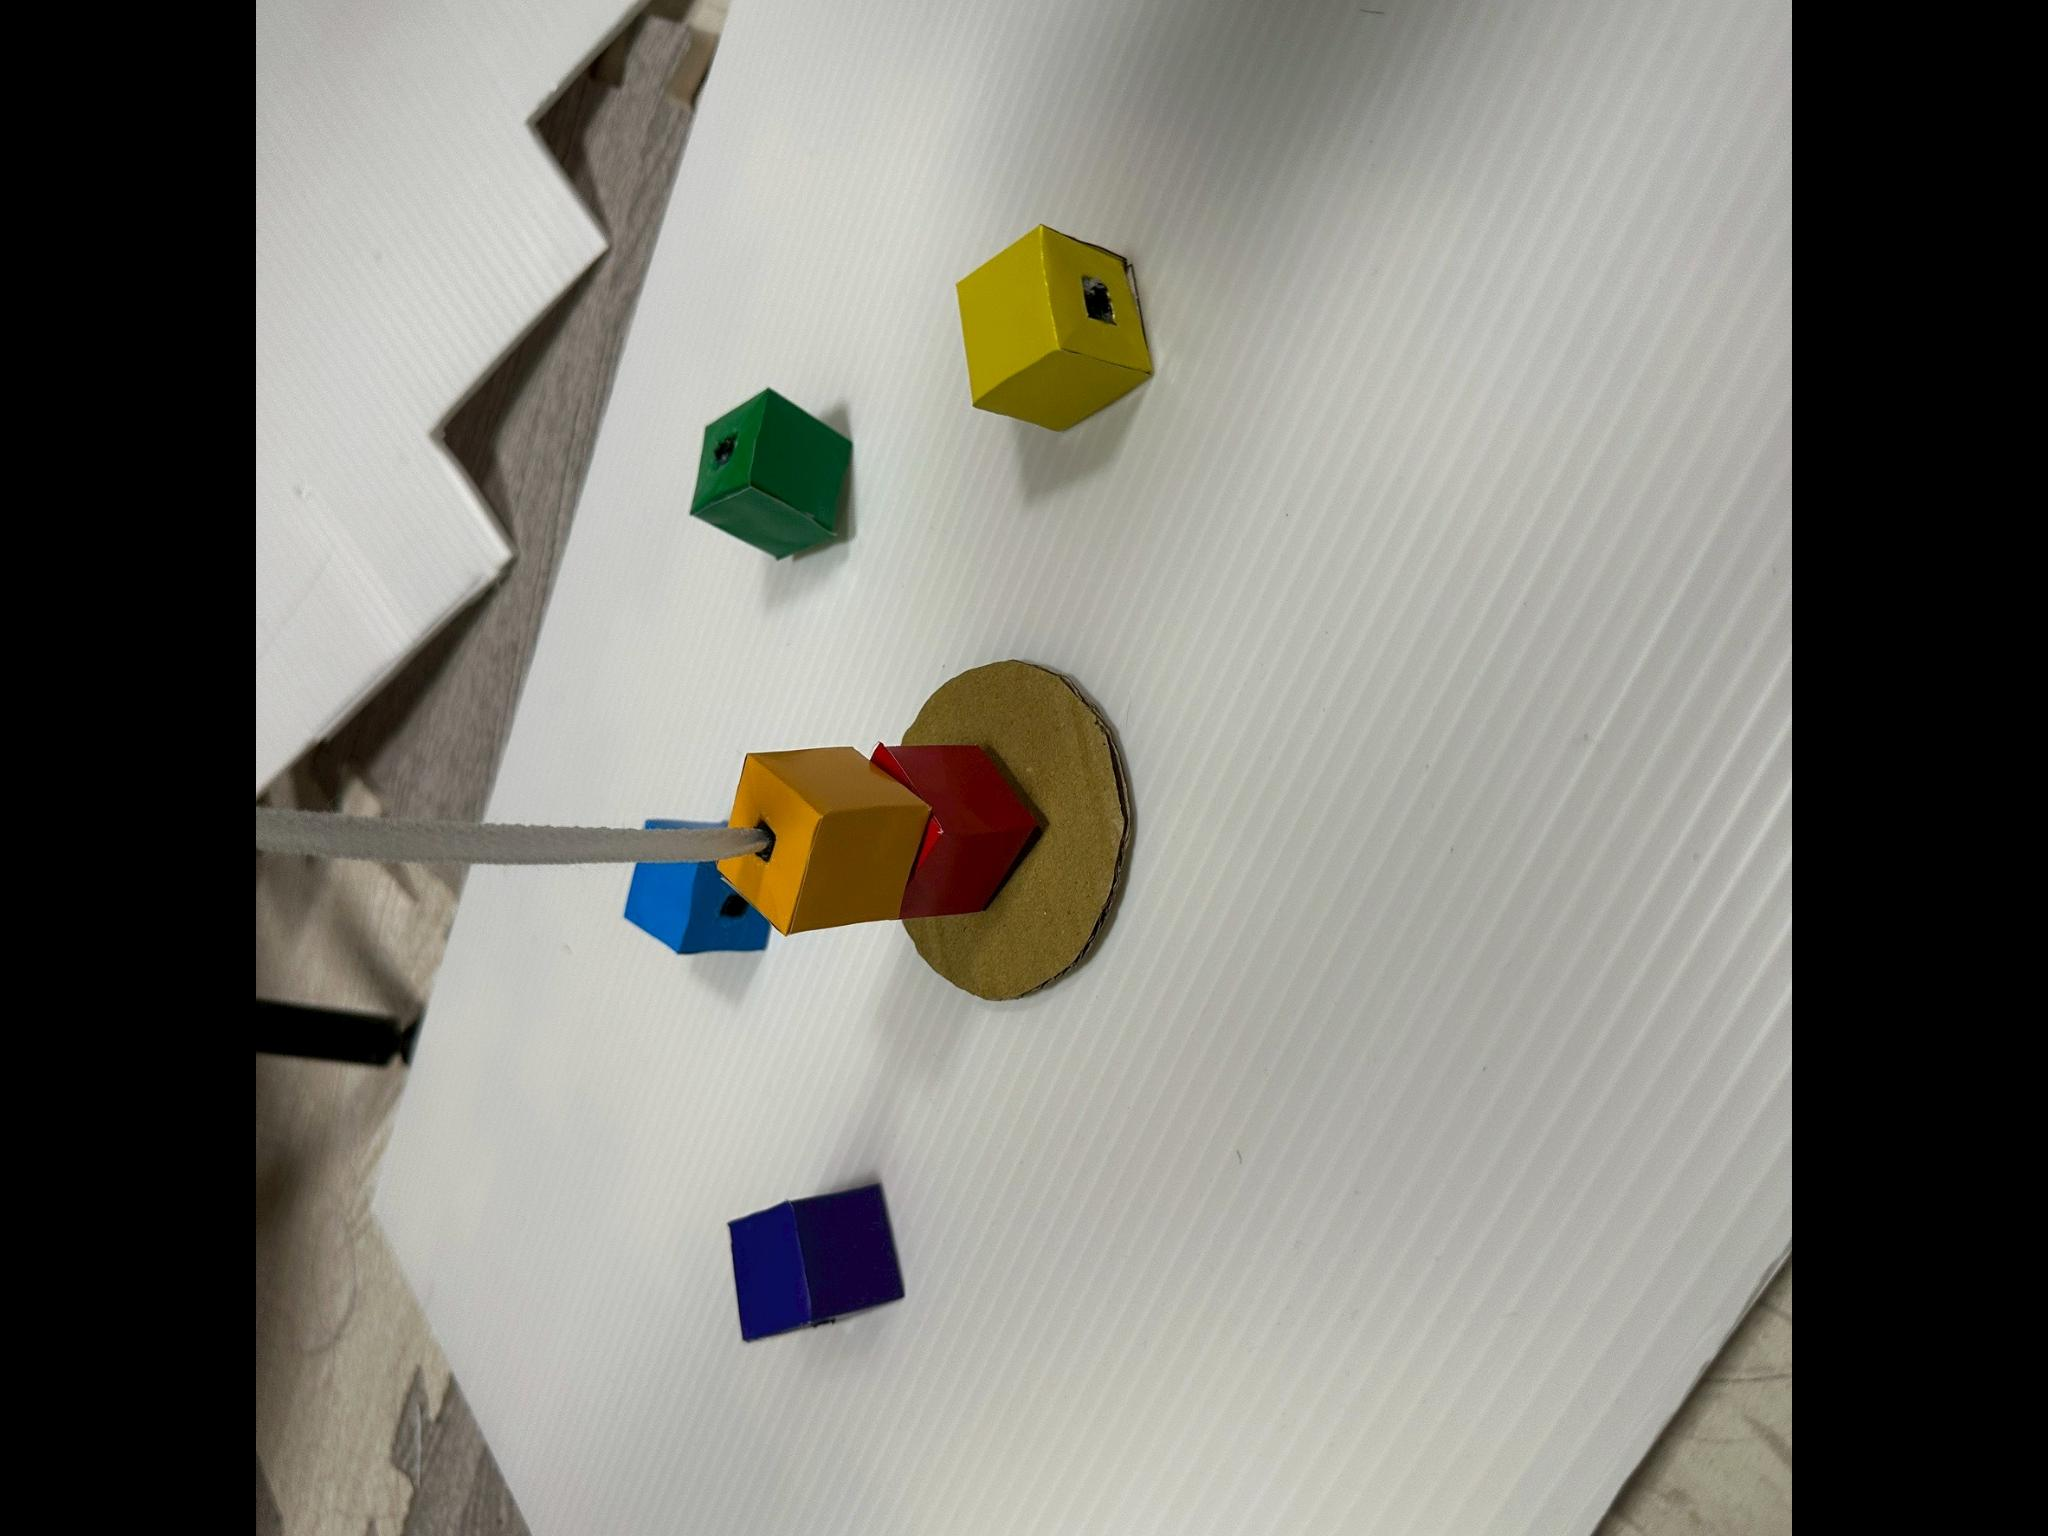base: (906, 660, 1130, 999)
cube: (958, 226, 1151, 429), (719, 747, 930, 933), (872, 745, 1039, 916), (690, 389, 850, 558), (731, 1184, 903, 1339), (626, 860, 771, 952), (645, 818, 710, 828)
